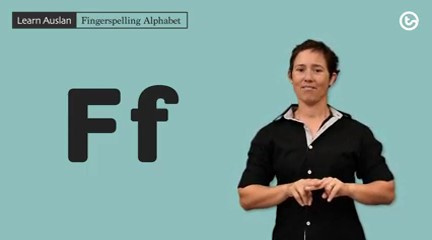F: (291, 175, 348, 209)
